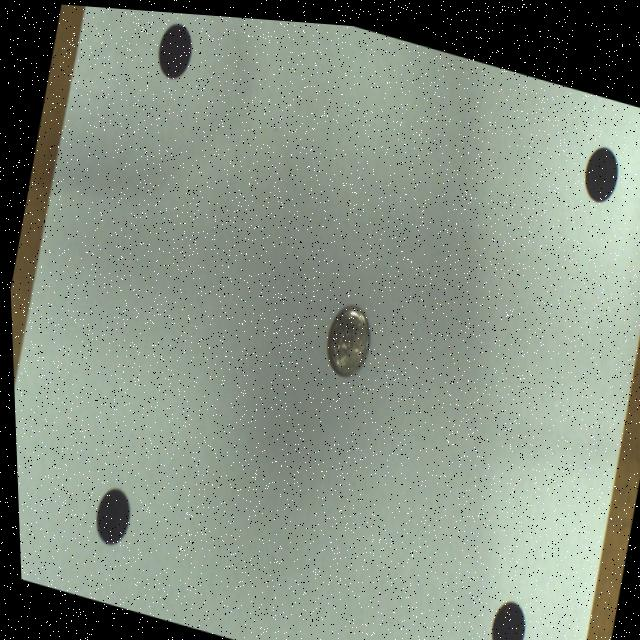space: (323, 299, 367, 372), (91, 486, 126, 543), (157, 21, 192, 77), (583, 137, 617, 193), (486, 594, 520, 640)
